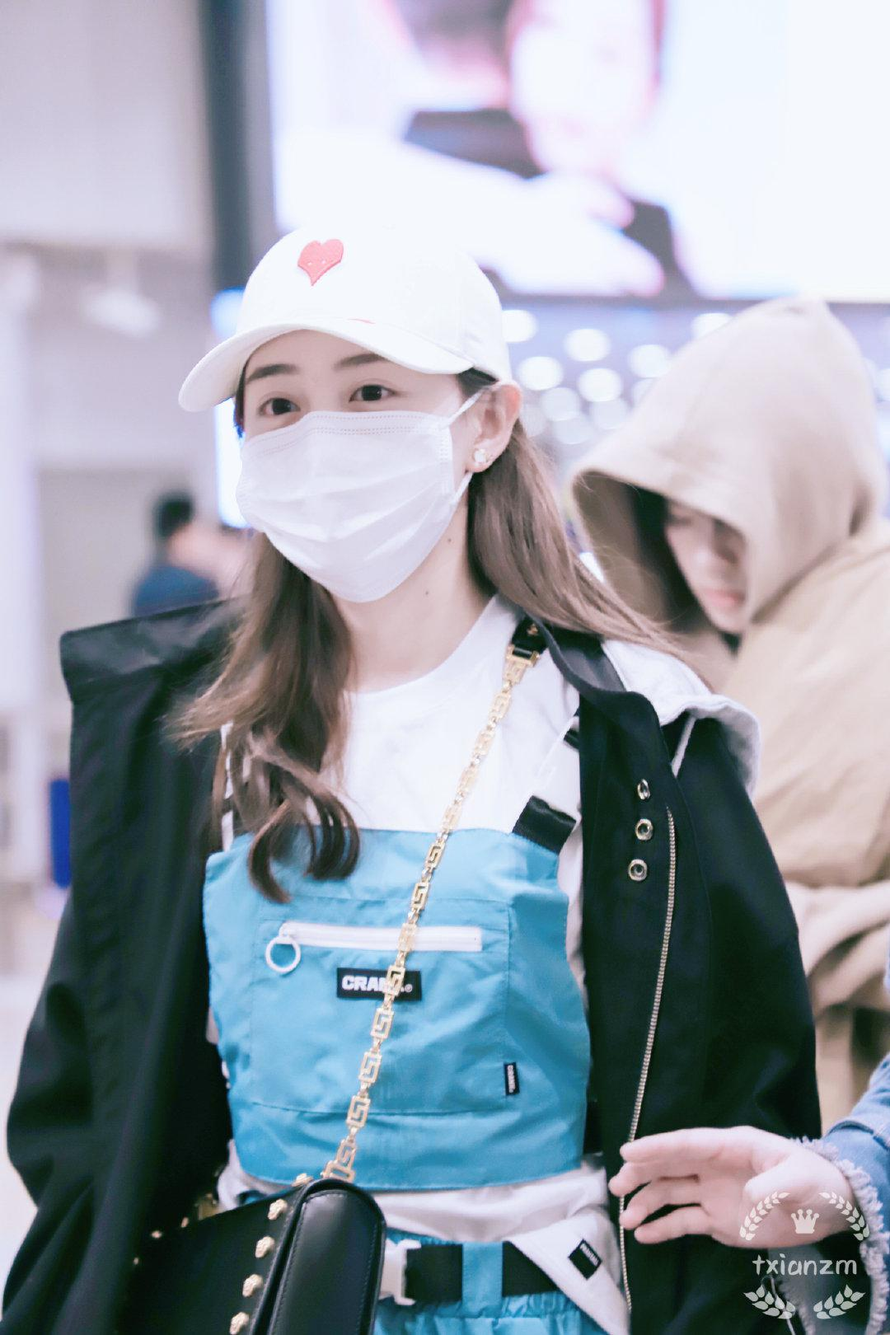NONE: (660, 489, 765, 633)
OK: (237, 327, 453, 602)
